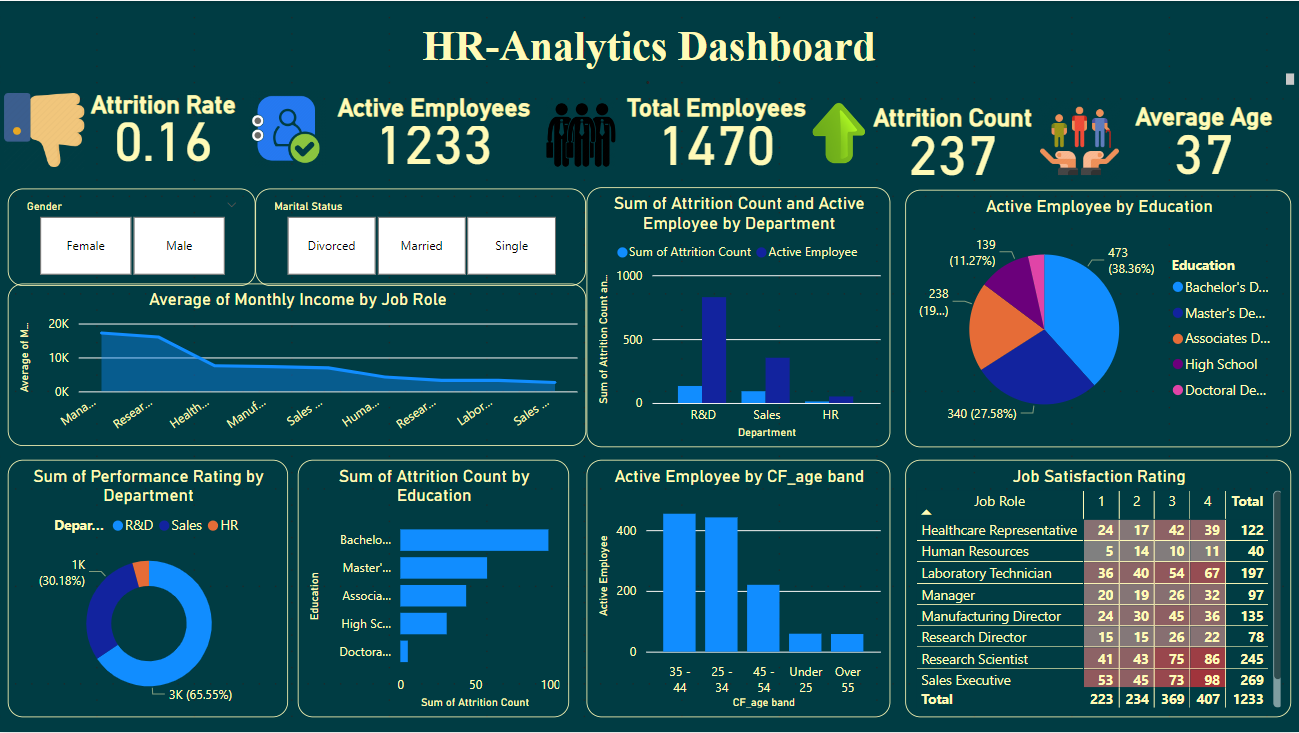

The page's visual inventory and layout, read from the dashboard file:
{"tool":"powerbi","page":{"name":"Page 1","canvas":[1280,720],"ordinal":0},"visuals":[{"type":"card","title":"Attrition Rate","fields":{"Values":["Table1.Attrition Rate"]},"box":[39.4,87.4,244.9,83.7],"z":0},{"type":"clusteredColumnChart","fields":{"Category":["Table1.Department"],"Y":["Sum(Table1.Attrition Count)","Table1.Active Employee"]},"box":[578.5,183.4,299.1,256],"z":1000},{"type":"card","title":" Active Employees","fields":{"Values":["Table1.Active Employee"]},"box":[283.1,91.1,290.5,82.5],"z":2000},{"type":"pieChart","fields":{"Category":["Table1.Education"],"Y":["Table1.Active Employee"]},"box":[892.3,185.8,380.3,253.5],"z":3000},{"type":"card","title":"Total Employees","fields":{"Values":["Sum(Table1.Employee Count)"]},"box":[585.8,91.1,241.2,83.7],"z":4000},{"type":"columnChart","fields":{"Y":["Table1.Active Employee"],"Category":["Table1.CF_age band"]},"box":[578.5,451.7,299.1,253.5],"z":5000},{"type":"card","title":"Attrition Count","fields":{"Values":["Sum(Table1.Attrition Count)"]},"box":[825.8,100.9,226.5,83.7],"z":6000},{"type":"pivotTable","title":"Job Satisfaction Rating","fields":{"Rows":["Table1.Job Role"],"Columns":["Table1.Job Satisfaction"],"Values":["Table1.Active Employee"]},"box":[892.3,451.7,380.3,253.5],"z":7000},{"type":"card","title":"Average Age","fields":{"Values":["Avg(Table1.Age)"]},"box":[1092.9,99.7,187.1,84.9],"z":8000},{"type":"areaChart","fields":{"Y":["Avg(Table1.Monthly Income)"],"Category":["Table1.Job Role"]},"box":[8.6,278.2,569.8,160],"z":9000},{"type":"donutChart","fields":{"Category":["Table1.Department"],"Y":["Sum(Table1.Performance Rating)"]},"box":[8.6,451.7,275.7,253.5],"z":10000},{"type":"clusteredBarChart","fields":{"Category":["Table1.Education"],"Y":["Sum(Table1.Attrition Count)"]},"box":[294.2,451.7,267.1,253.5],"z":11000},{"type":"slicer","fields":{"Values":["Table1.Gender"]},"box":[8.6,184.6,243.7,96],"z":12000},{"type":"slicer","fields":{"Values":["Table1.Marital Status"]},"box":[252.2,184.5,325.6,96],"z":13000},{"type":"textbox","title":"HR-Analytics Dashboard","box":[0,20.9,1280,66.5],"z":14000},{"type":"image","box":[788.9,54.2,75.1,151.4],"z":15000},{"type":"image","box":[1019.1,87.4,89.8,100.9],"z":16000},{"type":"image","box":[534.2,92.3,77.5,78.8],"z":17000},{"type":"image","box":[241.2,77.5,86.2,97.2],"z":18000},{"type":"image","box":[0,73.8,88.6,105.8],"z":19000}]}

Visuals, with their boxes in screenshot pixels (x1, y1, x2, y2), scaled from the page's 1280x720 canvas onto the 1299x733 screenshot:
"Attrition Rate" card: [x1=40, y1=89, x2=289, y2=174]
clusteredColumnChart - Table1.Department x Sum(Table1.Attrition Count): [x1=587, y1=187, x2=891, y2=447]
" Active Employees" card: [x1=287, y1=93, x2=582, y2=177]
pieChart - Table1.Education x Table1.Active Employee: [x1=906, y1=189, x2=1291, y2=447]
"Total Employees" card: [x1=594, y1=93, x2=839, y2=178]
columnChart - Table1.Active Employee x Table1.CF_age band: [x1=587, y1=460, x2=891, y2=718]
"Attrition Count" card: [x1=838, y1=103, x2=1068, y2=188]
"Job Satisfaction Rating" pivotTable: [x1=906, y1=460, x2=1291, y2=718]
"Average Age" card: [x1=1109, y1=102, x2=1298, y2=188]
areaChart - Avg(Table1.Monthly Income) x Table1.Job Role: [x1=9, y1=283, x2=587, y2=446]
donutChart - Table1.Department x Sum(Table1.Performance Rating): [x1=9, y1=460, x2=289, y2=718]
clusteredBarChart - Table1.Education x Sum(Table1.Attrition Count): [x1=299, y1=460, x2=570, y2=718]
slicer - Table1.Gender: [x1=9, y1=188, x2=256, y2=286]
slicer - Table1.Marital Status: [x1=256, y1=188, x2=586, y2=286]
"HR-Analytics Dashboard" textbox: [x1=0, y1=21, x2=1298, y2=89]
image: [x1=801, y1=55, x2=877, y2=209]
image: [x1=1034, y1=89, x2=1125, y2=192]
image: [x1=542, y1=94, x2=621, y2=174]
image: [x1=245, y1=79, x2=332, y2=178]
image: [x1=0, y1=75, x2=90, y2=183]
